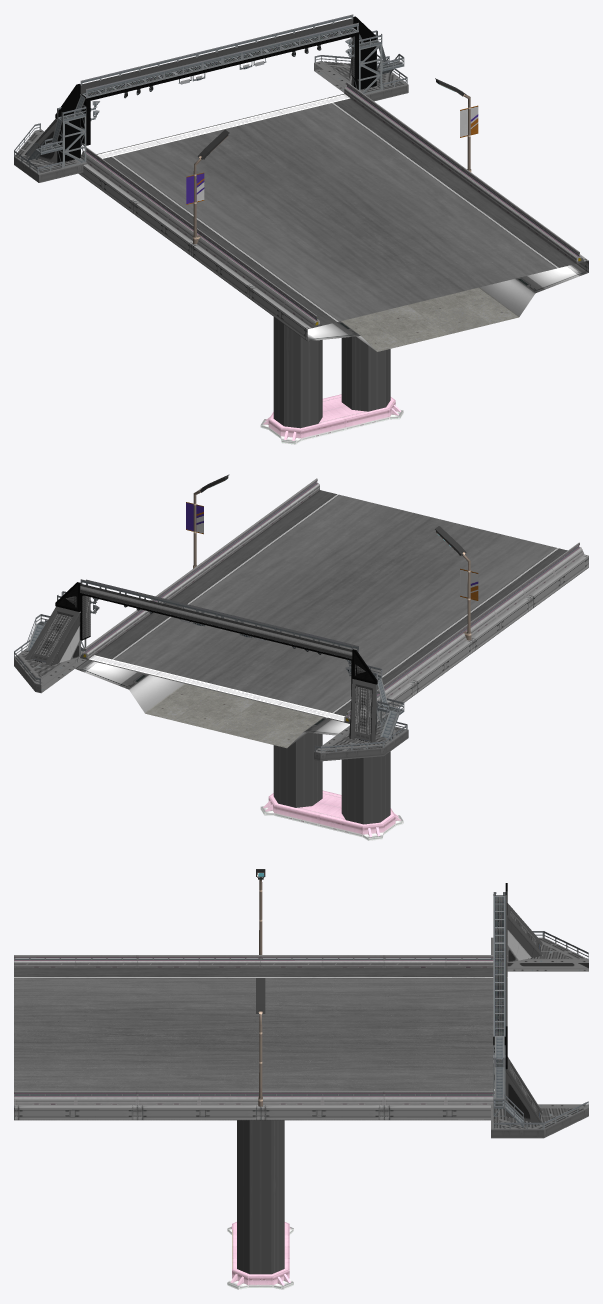
The model's file is T1 - Checkpoint.fbx.
The picture shows the model from 3 angles, top to bottom: view 1: azimuth 30°, elevation 25°; view 2: azimuth 150°, elevation 25°; view 3: azimuth 270°, elevation 25°; orthographic projection. The views are drawn at different scales.
Visible parts, largest first — view 1: standard_road, standard_bridge, gate, support_pylon, bridge, wall_straight_elevated, barrier_elevated2, support_ground, line, pro_streetlight_banner_1, pro_streetlight_banner; view 2: standard_road, standard_bridge, gate, support_pylon, bridge, wall_straight_elevated, barrier_elevated2, support_ground, line, pro_streetlight_banner_1, pro_streetlight_banner; view 3: standard_road, gate, barrier_elevated2, standard_bridge, support_pylon, wall_straight_elevated, bridge, support_ground, pro_streetlight_banner.
Part boxes in pixels (bbox=[...]): standard_road: bbox=[96, 94, 576, 326]; standard_bridge: bbox=[78, 164, 588, 351]; gate: bbox=[14, 16, 408, 182]; support_pylon: bbox=[273, 317, 390, 428]; bridge: bbox=[74, 14, 364, 115]; wall_straight_elevated: bbox=[81, 85, 580, 327]; barrier_elevated2: bbox=[86, 82, 584, 328]; support_ground: bbox=[260, 394, 403, 444]; line: bbox=[97, 94, 350, 158]; pro_streetlight_banner_1: bbox=[186, 129, 229, 244]; pro_streetlight_banner: bbox=[435, 78, 478, 171]; standard_road: bbox=[88, 490, 567, 722]; standard_bridge: bbox=[75, 554, 588, 748]; gate: bbox=[14, 582, 408, 761]; support_pylon: bbox=[273, 715, 390, 824]; bridge: bbox=[80, 579, 358, 660]; wall_straight_elevated: bbox=[83, 479, 584, 718]; barrier_elevated2: bbox=[80, 478, 579, 723]; support_ground: bbox=[260, 790, 403, 840]; line: bbox=[89, 655, 344, 721]; pro_streetlight_banner_1: bbox=[435, 526, 478, 640]; pro_streetlight_banner: bbox=[186, 474, 229, 568]; standard_road: bbox=[14, 968, 507, 1094]; gate: bbox=[491, 883, 588, 1138]; barrier_elevated2: bbox=[14, 955, 507, 1095]; standard_bridge: bbox=[14, 1105, 490, 1120]; support_pylon: bbox=[237, 1120, 284, 1274]; wall_straight_elevated: bbox=[14, 955, 507, 1105]; bridge: bbox=[493, 891, 507, 1058]; support_ground: bbox=[227, 1222, 293, 1289]; pro_streetlight_banner: bbox=[256, 978, 265, 1106].
Bounding box in the file's own units: 5885 × 4791 × 7456.
